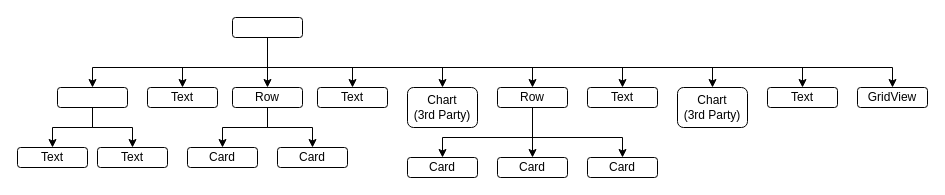
Some shapes in this 945 by 195 pixel diagram are drawn without their labels. The centre of each missing label's shape, as x and y in pixels:
"Column" goes at pixel 267 27.
"Container" goes at pixel 92 97.
